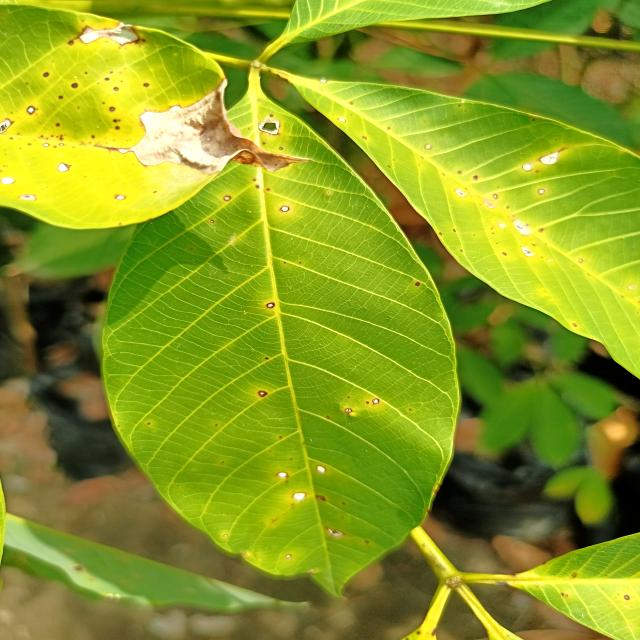Colletotrichum: (259, 120, 280, 135), (520, 246, 532, 258), (18, 194, 38, 201), (57, 162, 70, 172), (293, 492, 307, 500), (26, 105, 36, 115), (522, 164, 532, 172), (316, 465, 327, 472), (114, 194, 126, 200), (280, 205, 290, 212), (258, 390, 268, 397), (276, 472, 288, 477), (267, 302, 275, 308), (372, 398, 380, 404), (424, 144, 432, 150), (344, 408, 353, 413), (538, 189, 545, 195), (109, 106, 116, 112), (223, 196, 231, 201), (42, 143, 50, 147), (492, 194, 498, 199), (43, 72, 49, 77), (624, 595, 630, 600), (71, 84, 78, 88), (472, 176, 478, 180), (144, 83, 150, 87), (68, 41, 74, 45), (286, 554, 292, 558), (537, 228, 543, 232), (415, 282, 420, 286), (114, 87, 119, 91), (502, 252, 507, 256), (457, 171, 462, 175), (270, 114, 274, 118), (438, 232, 442, 236), (210, 220, 214, 223), (279, 147, 283, 150), (452, 229, 456, 232), (59, 144, 64, 146)
Leaf-Blight: (119, 79, 311, 174), (80, 22, 139, 44)
